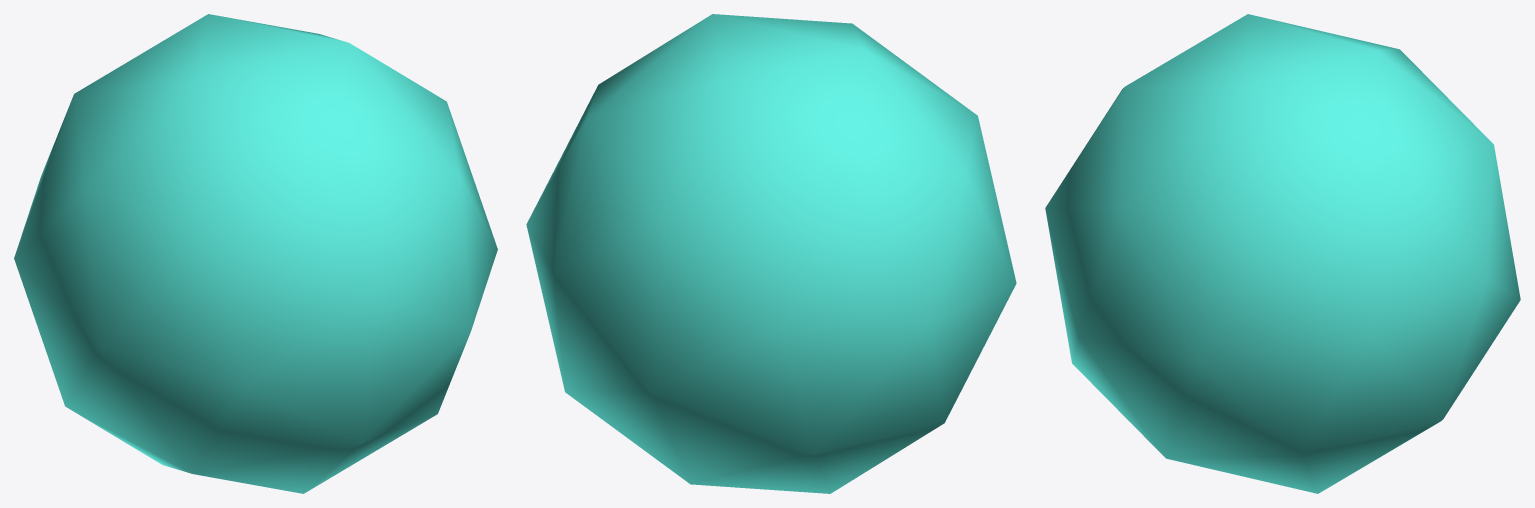
The picture shows the model from 3 angles, left to right: view 1: azimuth 30°, elevation 25°; view 2: azimuth 150°, elevation 25°; view 3: azimuth 270°, elevation 25°; orthographic projection. The views are drawn at different scales.
Visible parts, largest first — view 1: sphere; view 2: sphere; view 3: sphere.
Part boxes in pixels (bbox=[...]): sphere: bbox=[14, 14, 497, 493]; sphere: bbox=[526, 14, 1016, 493]; sphere: bbox=[1045, 14, 1520, 493].
Size of the model in its own units: 12.41 by 12.26 by 12.99.
1 material, 1 textured.
